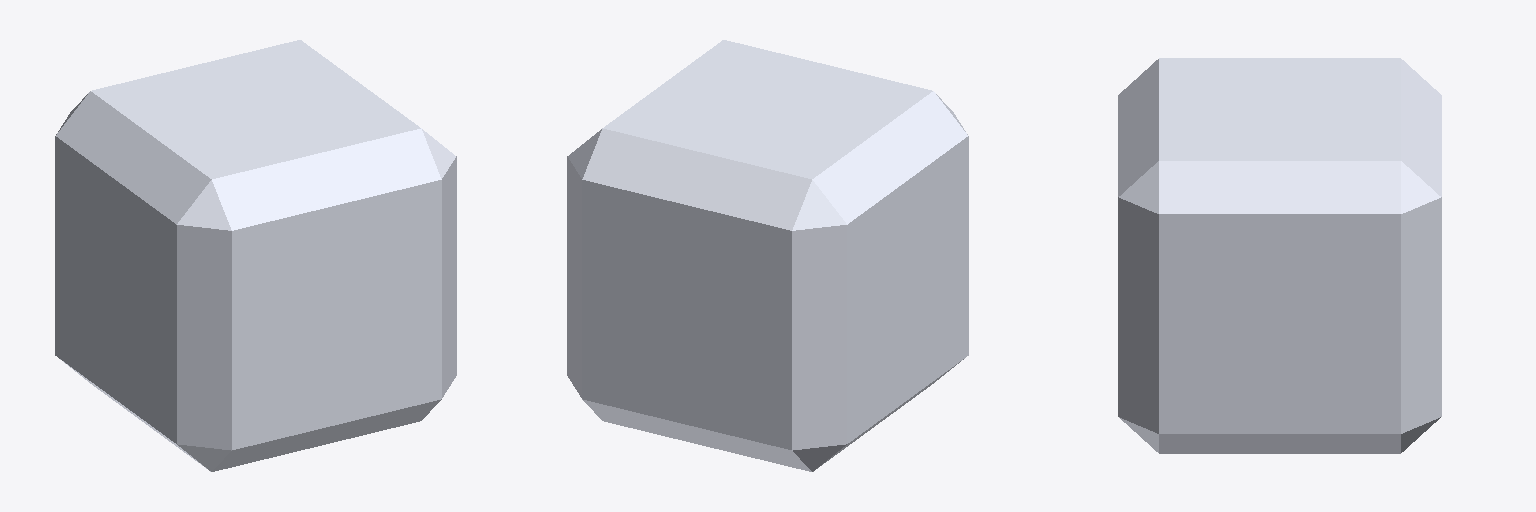
The model's file is block.obj.
3 renders of one model, left to right at view 1: azimuth 30°, elevation 25°; view 2: azimuth 150°, elevation 25°; view 3: azimuth 270°, elevation 25°, orthographic.
Visible parts, largest first — view 1: mergedBlocks; view 2: mergedBlocks; view 3: mergedBlocks.
Part boxes in pixels (bbox=[...]): mergedBlocks: bbox=[55, 40, 456, 471]; mergedBlocks: bbox=[567, 40, 968, 471]; mergedBlocks: bbox=[1118, 58, 1441, 453].
Bounding box in the file's own units: 1 × 1 × 1.